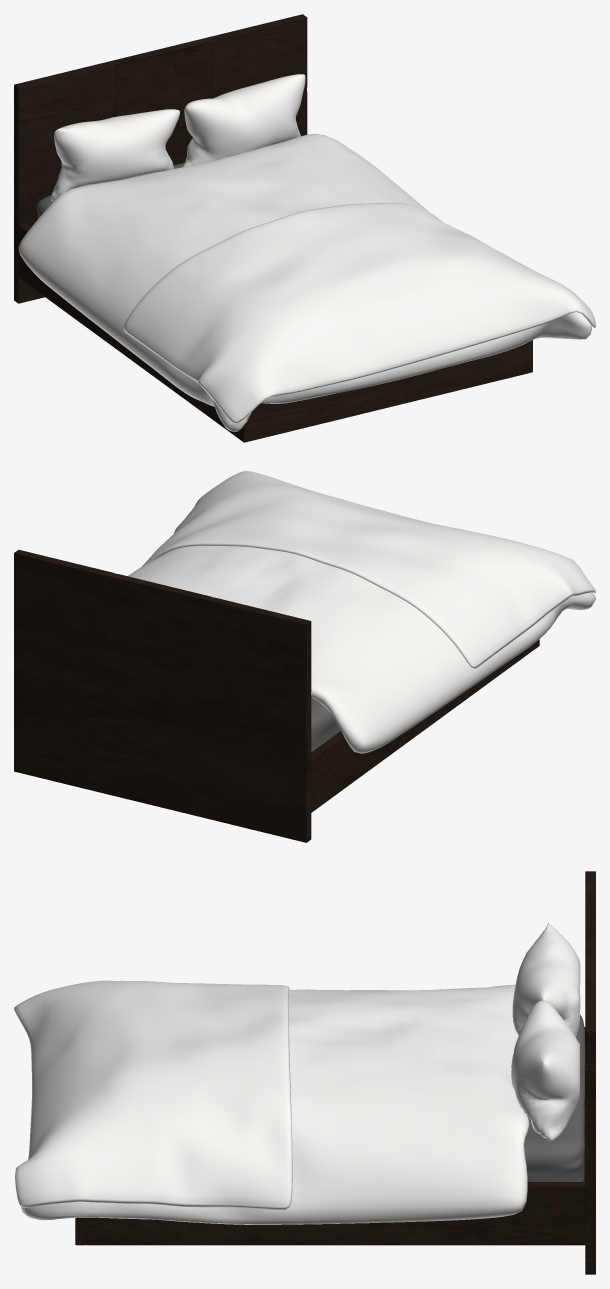
3 views of the same model, one above another, from view 1: azimuth 30°, elevation 25°; view 2: azimuth 150°, elevation 25°; view 3: azimuth 270°, elevation 25° (orthographic). The views are drawn at different scales.
Visible parts, largest first — view 1: Object_146, Object_144, Object_140; view 2: Object_140, Object_146, Object_144, Object_142; view 3: Object_146, Object_144, Object_140, Object_142.
Part boxes in pixels (bbox=[...]): Object_146: bbox=[51, 74, 595, 422]; Object_144: bbox=[18, 133, 592, 432]; Object_140: bbox=[14, 14, 532, 442]; Object_140: bbox=[14, 549, 539, 842]; Object_146: bbox=[142, 471, 595, 668]; Object_144: bbox=[128, 546, 595, 753]; Object_142: bbox=[311, 698, 340, 751]; Object_146: bbox=[14, 923, 580, 1209]; Object_144: bbox=[21, 984, 529, 1224]; Object_140: bbox=[75, 871, 595, 1274]; Object_142: bbox=[524, 1014, 585, 1181].
Size of the model in its own units: 1.87 by 1.03 by 2.23.
4 materials, 1 textured.
